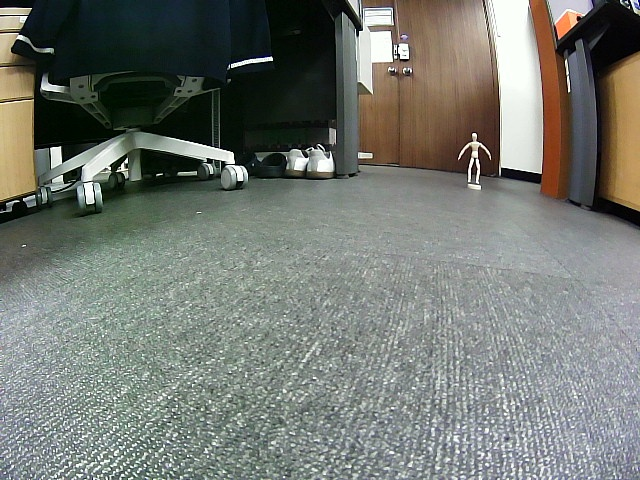person: (458, 131, 491, 185)
